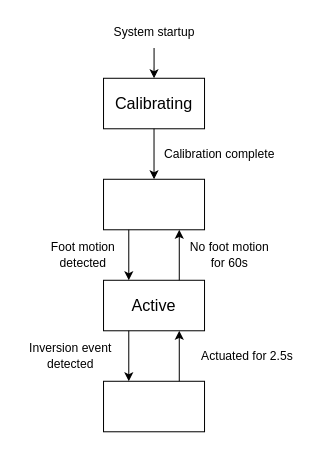
Image size: 317x449. Some labels were removed from this diagram. The centre of each missing label's shape, as x and y in pixels:
"Actuated" goes at (x=154, y=406).
"Idle" goes at (x=154, y=204).
